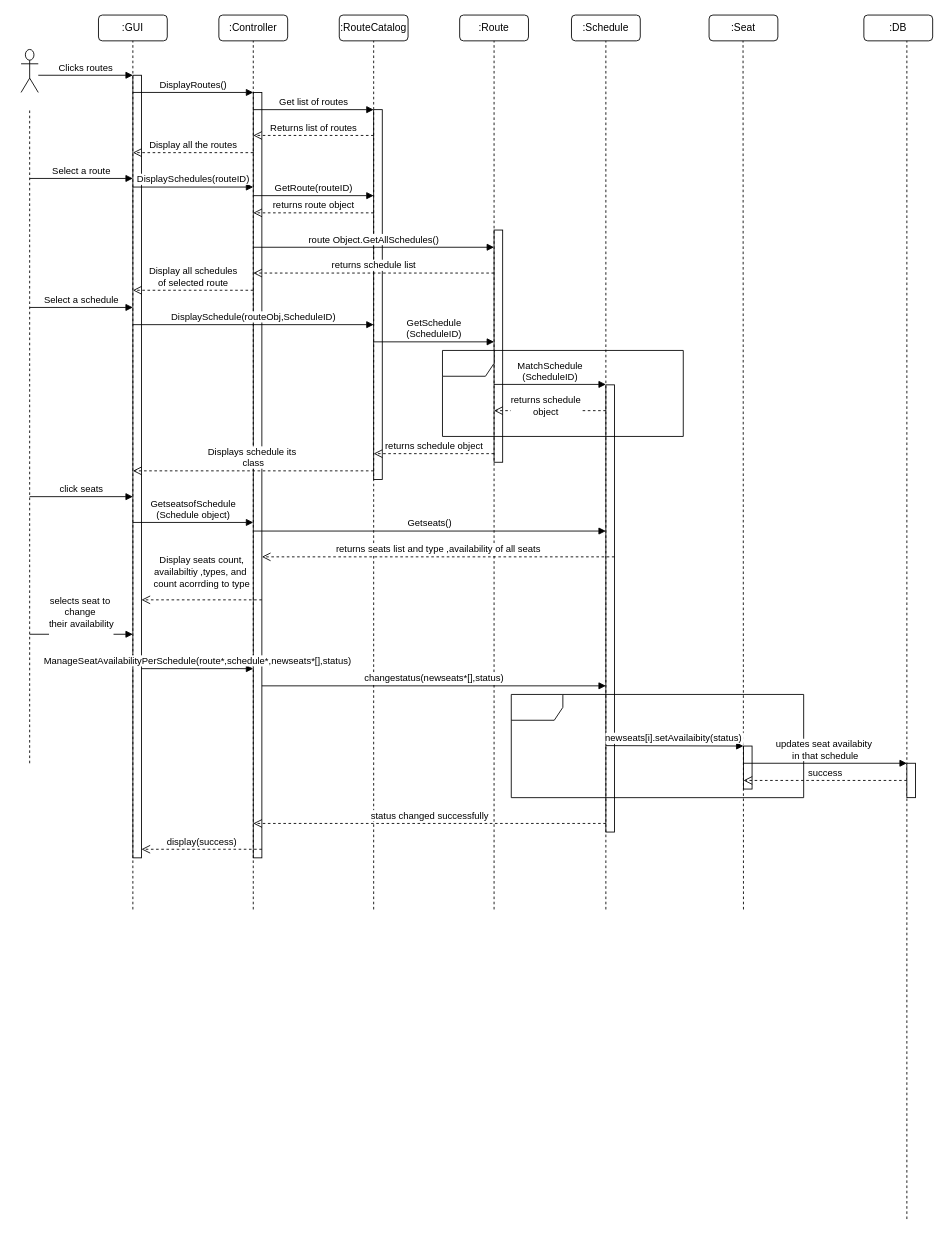
Some shapes in this 948 by 1235 pixel diagram are drawn without their labels. Here are the shapes that lost their labels. From the top down, the box of each, then its label:
(20, 49, 38, 92): Admin
(442, 350, 683, 436): frame
(510, 694, 804, 798): For all new seats
